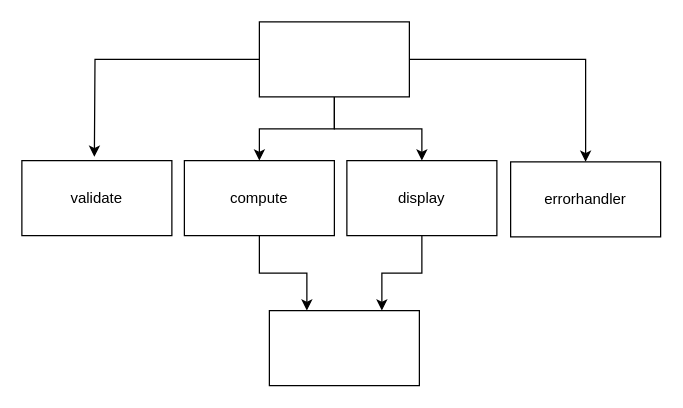
This 683x408 diagram has some shape labels left out. The box of each missing label's shape, as (x1, y1, x2, y2) in pixels:
main: (258, 21, 409, 97)
student.h: (268, 309, 419, 386)
